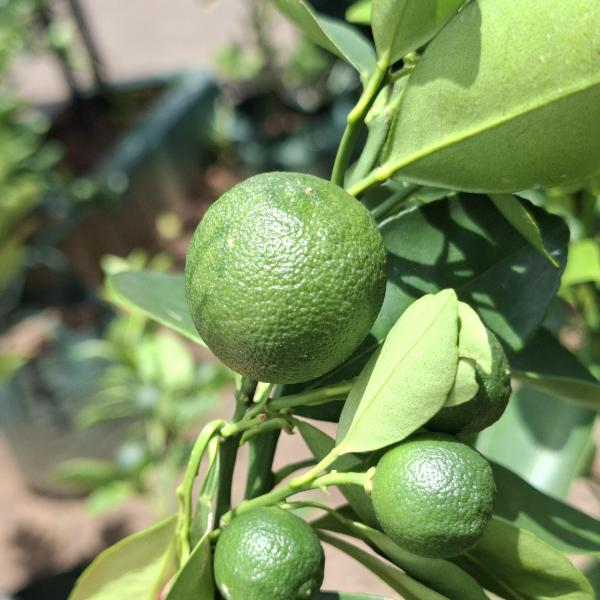Scab: (178, 158, 404, 401), (207, 506, 332, 599)
